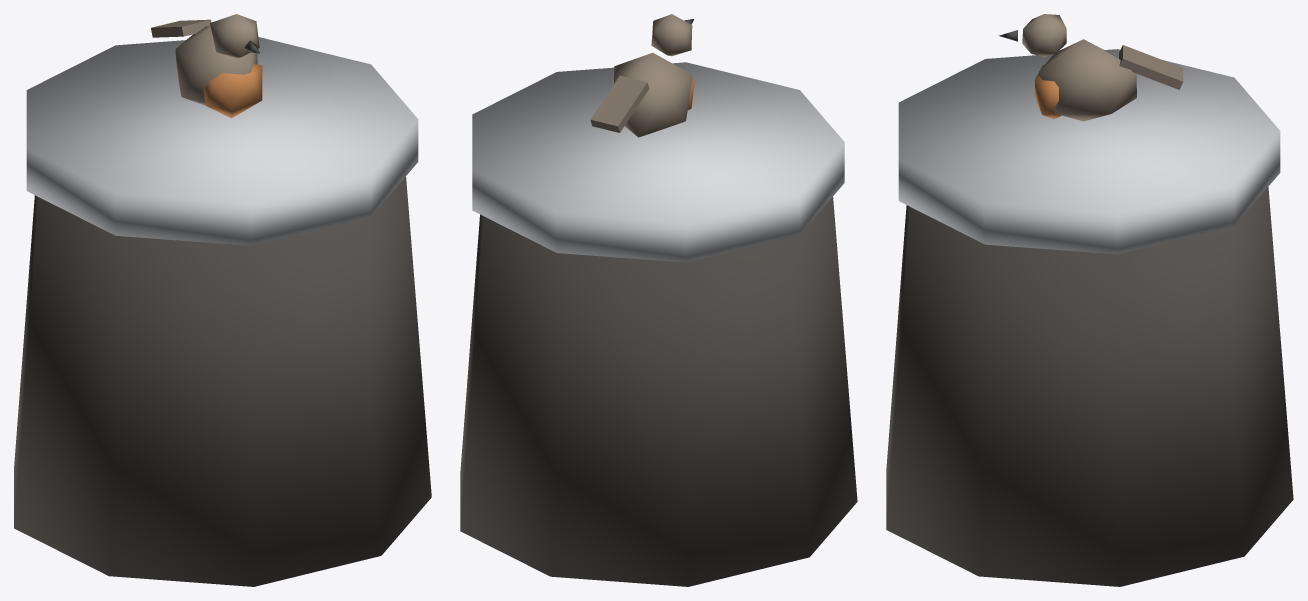
File: robin_on_stump.glb
3 renders of one model, left to right at view 1: azimuth 30°, elevation 25°; view 2: azimuth 150°, elevation 25°; view 3: azimuth 270°, elevation 25°, orthographic. The views are drawn at different scales.
Visible parts, largest first — view 1: robin_on_stump; view 2: robin_on_stump; view 3: robin_on_stump.
Part boxes in pixels (box(x1,y1,x2,y2)): robin_on_stump: box(14, 14, 431, 586); robin_on_stump: box(460, 14, 857, 586); robin_on_stump: box(886, 14, 1293, 586).
Bounding box in the file's own units: 0.6303 × 0.8168 × 0.6207.
